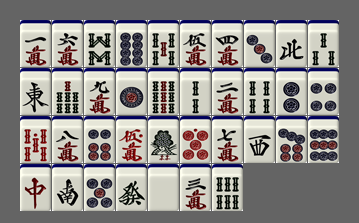0m: (116, 116, 147, 163)
0p: (180, 116, 211, 163)
0s: (20, 116, 51, 163)
1m: (20, 20, 51, 67)
1p: (116, 68, 147, 115)
1s: (148, 116, 179, 163)
1z: (20, 68, 51, 115)
2m: (212, 68, 243, 115)
2p: (276, 68, 307, 115)
2s: (180, 68, 211, 115)
2z: (52, 164, 83, 211)
3m: (180, 164, 211, 211)
3p: (244, 20, 275, 67)
3s: (308, 20, 339, 67)
3z: (244, 116, 275, 163)
4m: (212, 20, 243, 67)
4p: (308, 68, 339, 115)
4s: (244, 68, 275, 115)
4z: (276, 20, 307, 67)
5m: (180, 20, 211, 67)
5p: (84, 164, 115, 211)
5s: (148, 20, 179, 67)
5z: (148, 164, 179, 211)
6m: (52, 20, 83, 67)
6p: (84, 116, 115, 163)
6s: (212, 164, 243, 211)
6z: (116, 164, 147, 211)
7m: (212, 116, 243, 163)
7p: (276, 116, 307, 163)
7s: (52, 68, 83, 115)
7z: (20, 164, 51, 211)
8m: (52, 116, 83, 163)
8p: (116, 20, 147, 67)
8s: (84, 20, 115, 67)
9m: (84, 68, 115, 115)
9p: (308, 116, 339, 163)
9s: (148, 68, 179, 115)
